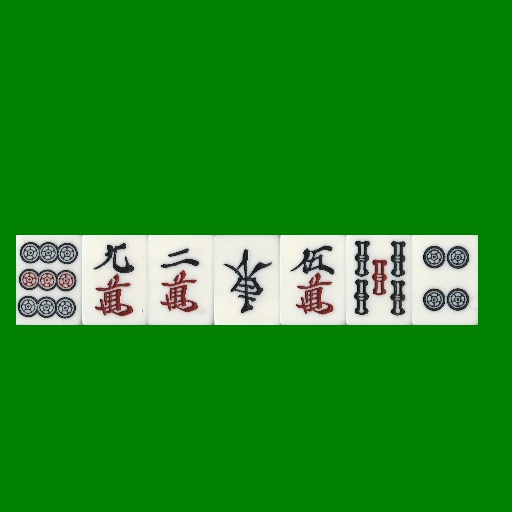2m: (148, 235, 214, 325)
4p: (412, 235, 478, 325)
5m: (280, 235, 346, 325)
5s: (346, 235, 412, 325)
9m: (82, 235, 148, 325)
9p: (16, 235, 82, 325)
east: (214, 235, 280, 325)
